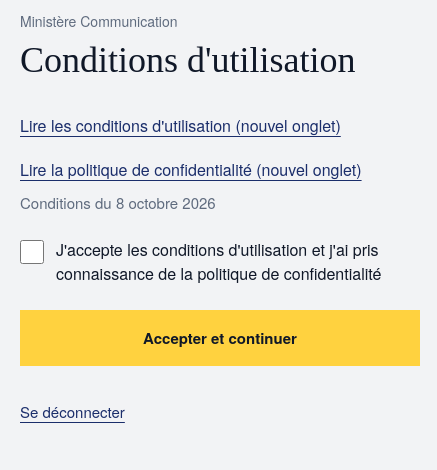
Test: EcranAcceptation (T53) › sans case cochée : le message, rien n’est envoyé, le bouton reste actif
Click the button named "Accepter et continuer". click: (220, 338)
box: [20,310,420,366]
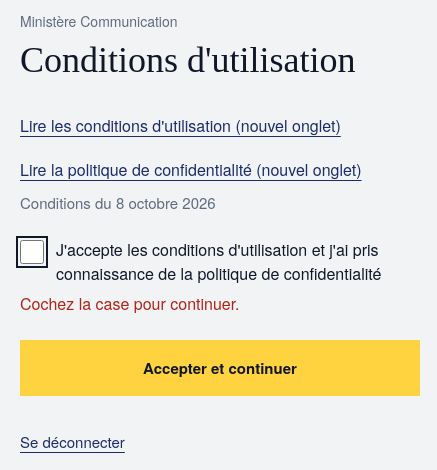
Expected: the text "Cochez la case pour continuer." is shown, [20,292,239,315]
